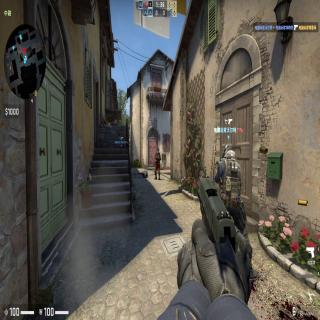CT-Head: (222, 144, 234, 160)
T-Body: (154, 148, 161, 180)
T-Head: (156, 148, 159, 154)
